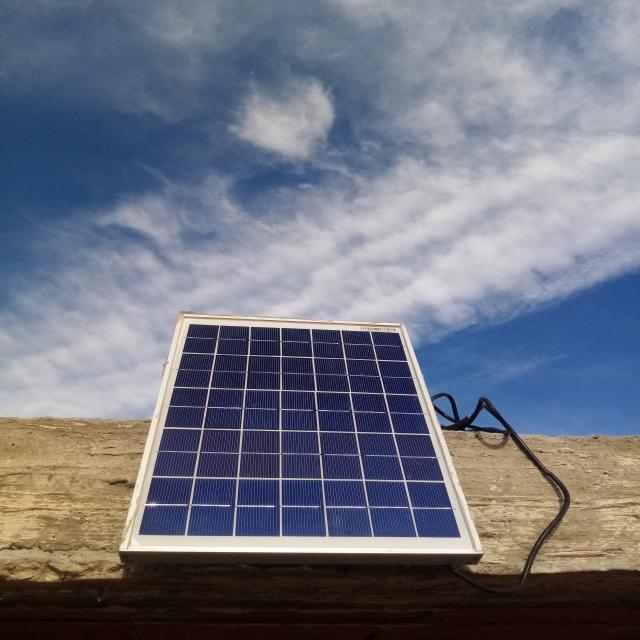no faulty: (139, 315, 480, 552)
